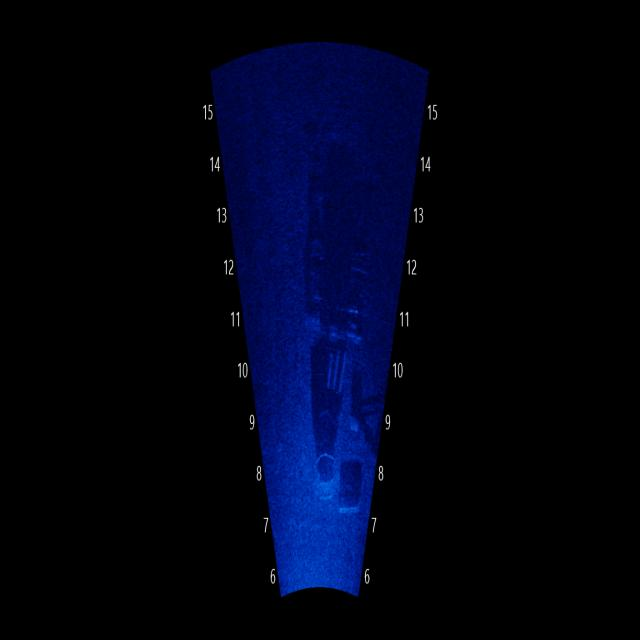circle: (307, 438, 338, 520)
square: (290, 127, 378, 345), (340, 462, 366, 521)
